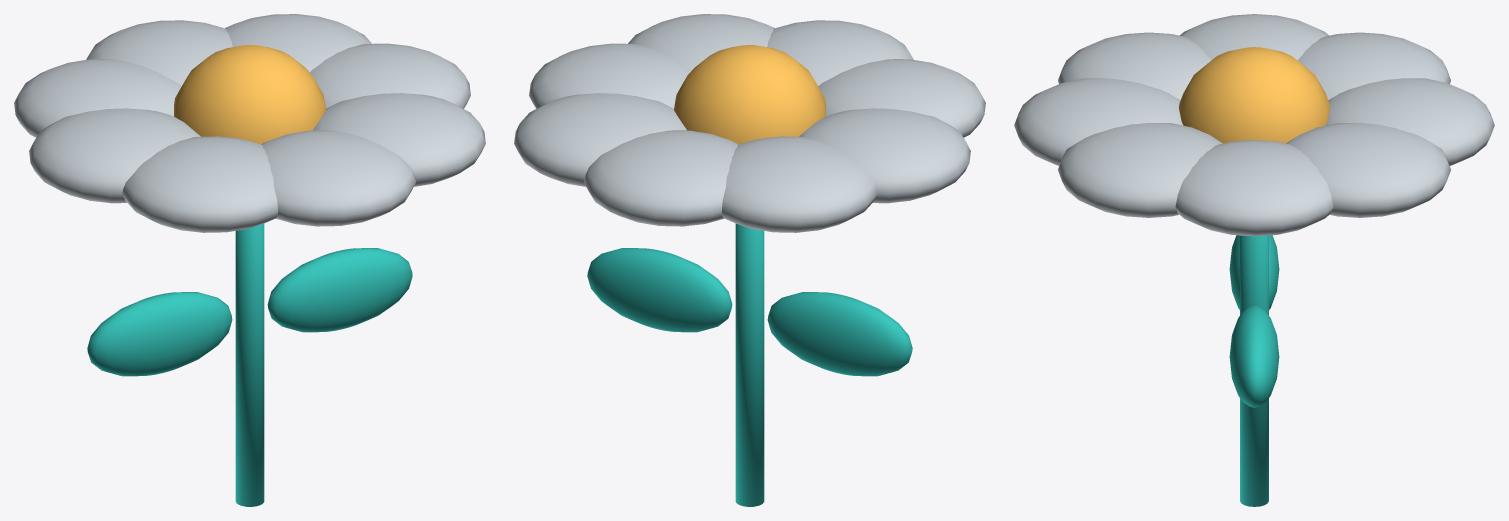
The model's file is flower-lite.glb.
3 renders of one model, left to right at view 1: azimuth 30°, elevation 25°; view 2: azimuth 150°, elevation 25°; view 3: azimuth 270°, elevation 25°, orthographic.
Visible parts, largest first — view 1: Stem; view 2: Stem; view 3: Stem.
Part boxes in pixels (left/top/right/bottom): Stem: left=14, top=14, right=485, bottom=506; Stem: left=514, top=14, right=985, bottom=506; Stem: left=1014, top=14, right=1494, bottom=506.
Size of the model in its own units: 1.16 by 1.19 by 1.16.
